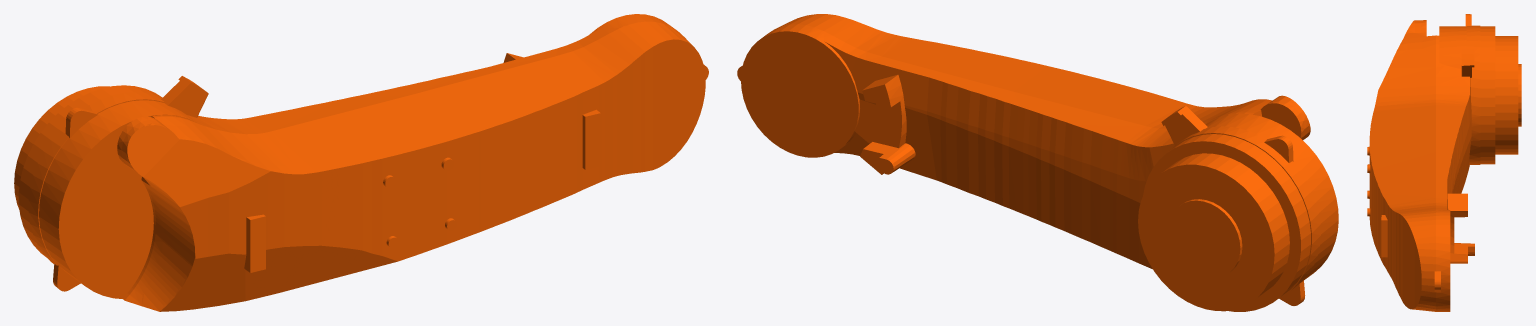
The picture shows the model from 3 angles, left to right: view 1: azimuth 30°, elevation 25°; view 2: azimuth 150°, elevation 25°; view 3: azimuth 270°, elevation 25°; orthographic projection. The views are drawn at different scales.
Parts seen in each view (by area): view 1: node0; view 2: node0; view 3: node0.
Part boxes in pixels (x1=…): node0: x1=14, y1=14, x2=708, y2=311; node0: x1=737, y1=14, x2=1338, y2=311; node0: x1=1367, y1=14, x2=1521, y2=311.
Bounding box in the file's own units: 1.66 × 0.492 × 0.4702.
